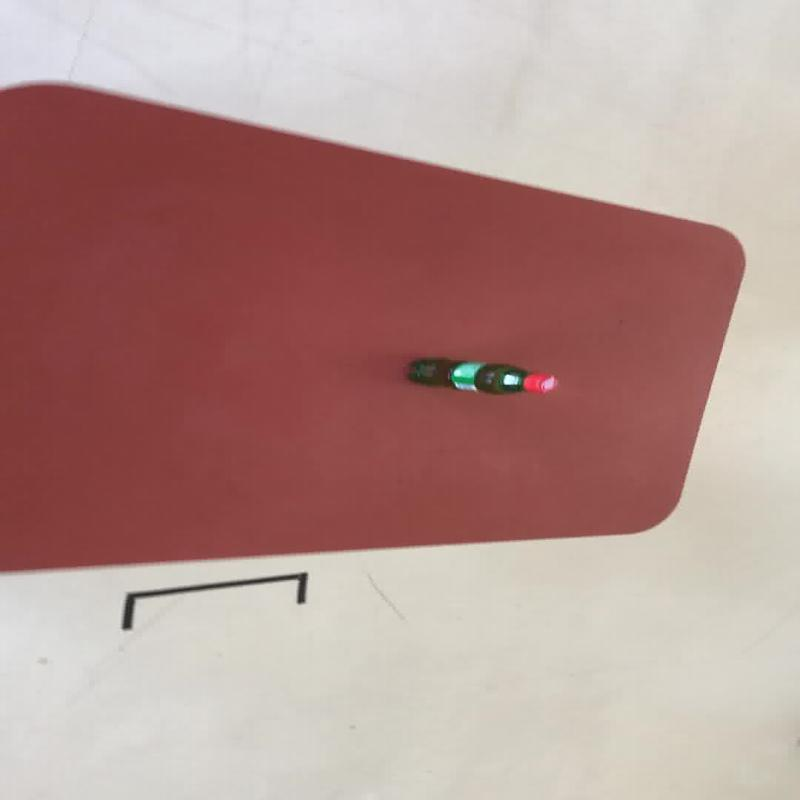guarana: (404, 355, 559, 395)
